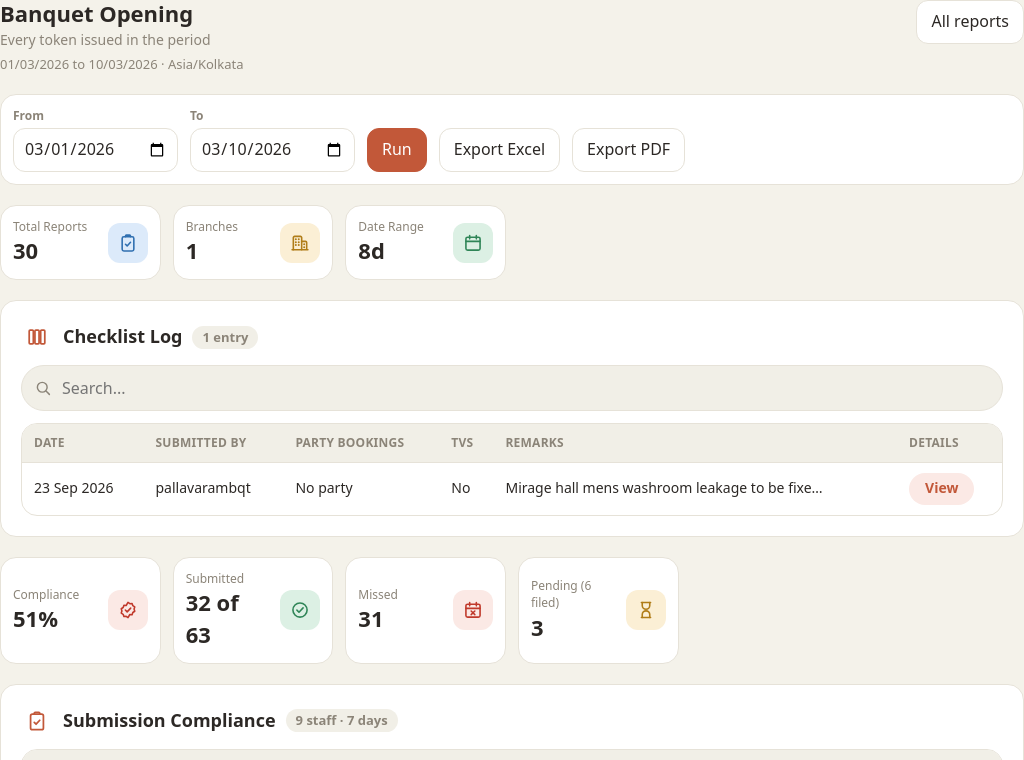
Scenario: tasks.banquet_opening report screen › RF-71. View opens the banquet checklist's own details, in its own colour
Click the button with aria-label "View 23 Sep 2026" at (942, 489), box [909,473,974,505]
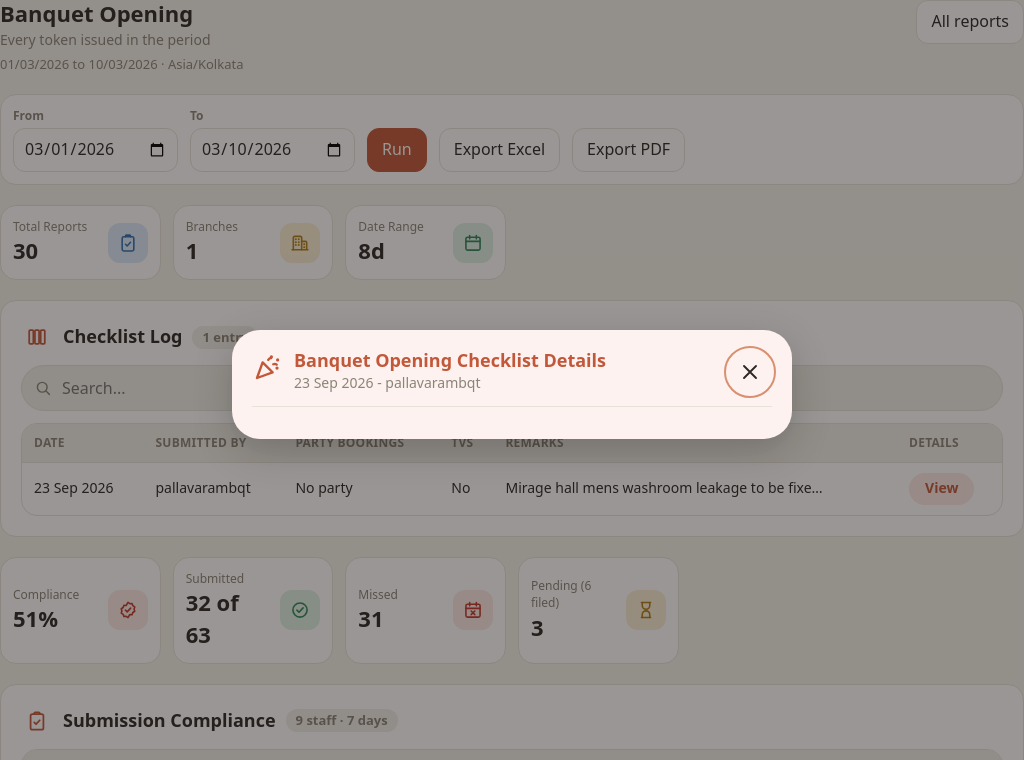
Check: the text "23 Sep 2026 - pallavarambqt" is shown, box [294,373,480,392]
